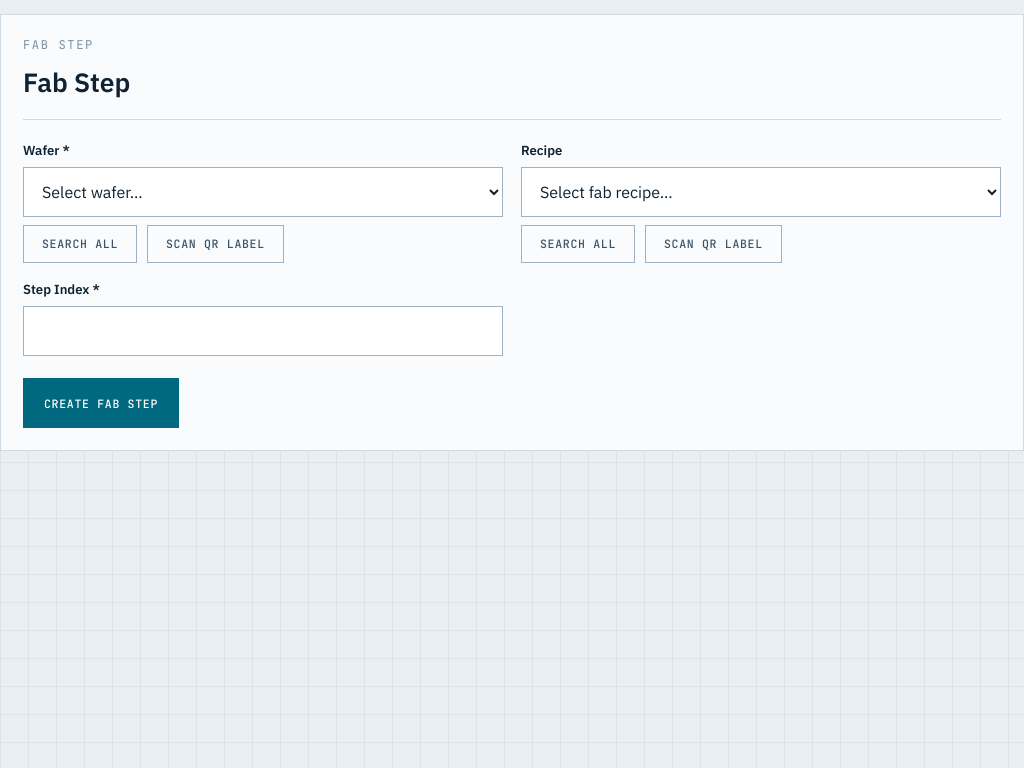
Test case: Step index suggestion › replaces a still-untouched suggestion when the wafer pick changes
Select "W-2026-0002" in the dropdown labelled "Wafer *" at (263, 192), box [23,167,503,217]
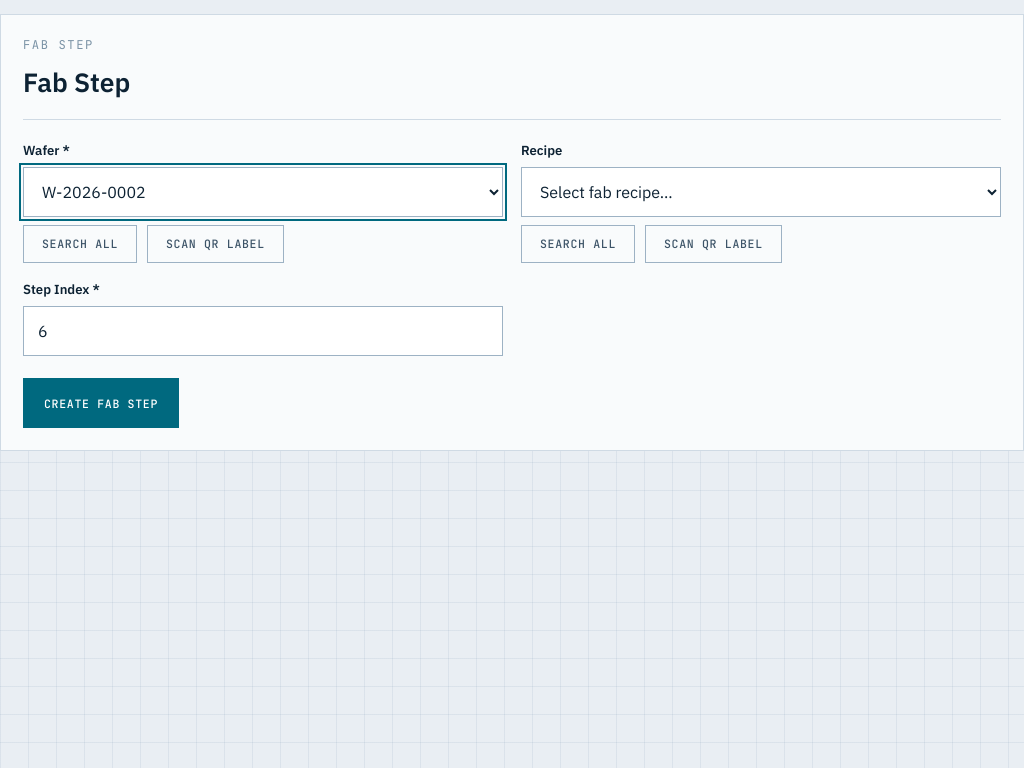
Now the number field labelled "Step Index *" holds "6", box [23,306,503,356]
Select "W-2026-0001" in the dropdown labelled "Wafer *" at (263, 192), box [23,167,503,217]
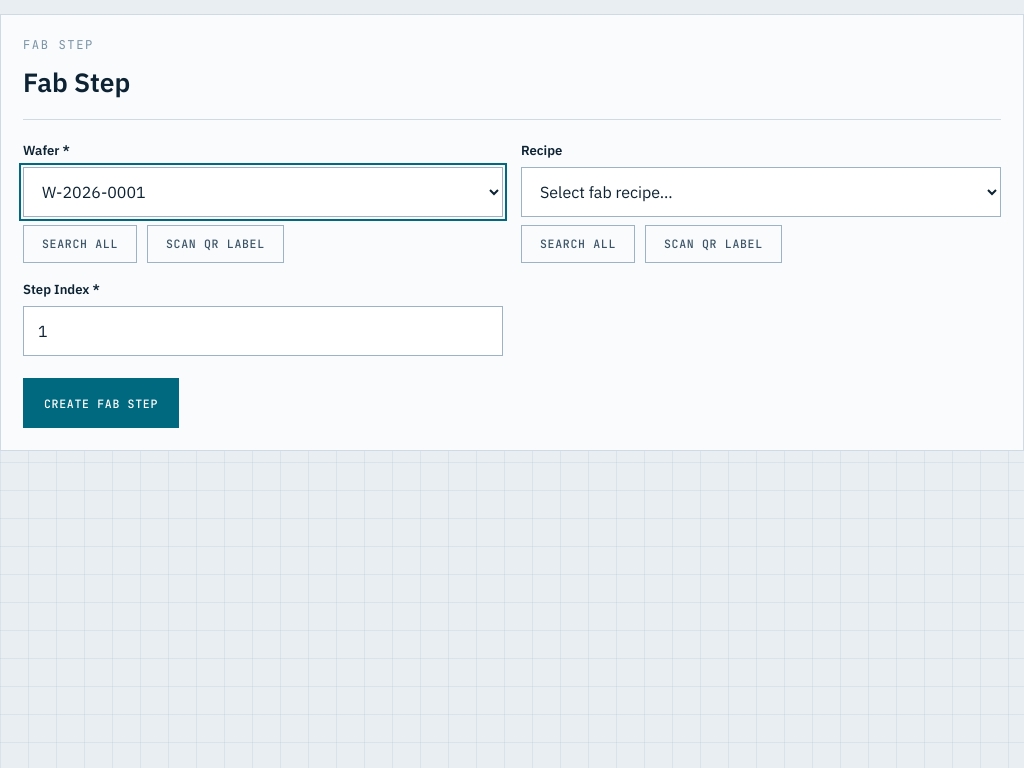
Now the number field labelled "Step Index *" holds "1", box [23,306,503,356]
